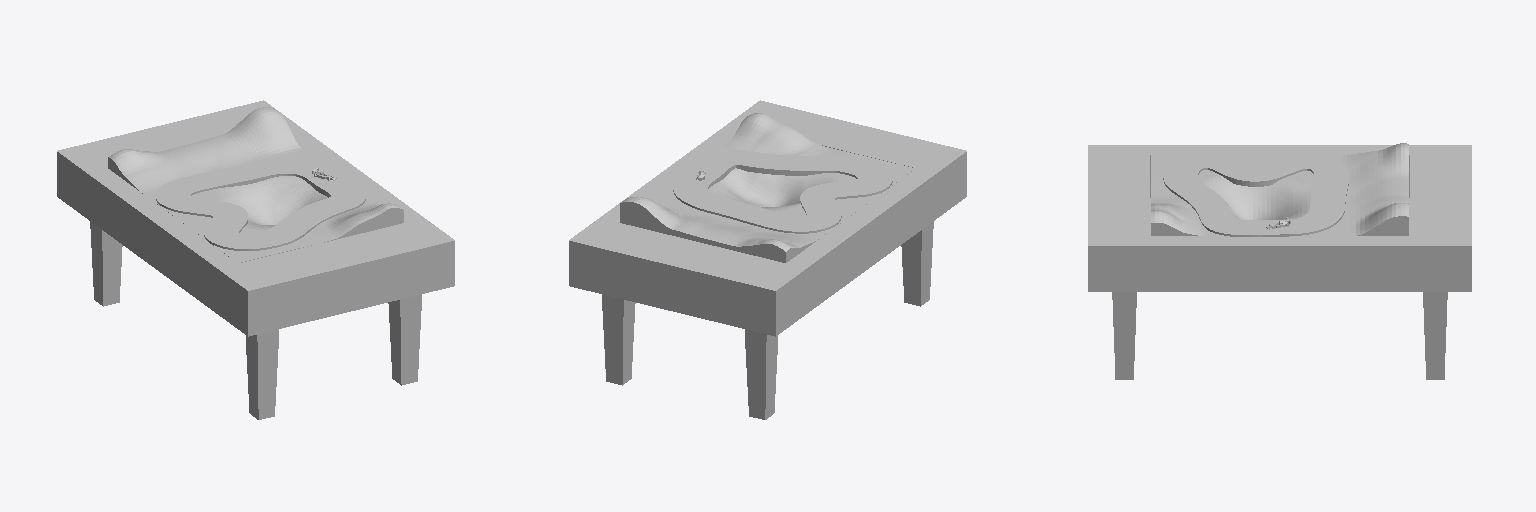
The model's file is NewestTisch22.obj.
3 views of the same model, side by side, from view 1: azimuth 30°, elevation 25°; view 2: azimuth 150°, elevation 25°; view 3: azimuth 270°, elevation 25° (orthographic).
Visible parts, largest first — view 1: Tischplatte_wood_table_001, Landschaft_aerial_grass_rock, off, Bein1_wood_table_001, Bein4_wood_table_001.003, Bein3_wood_table_001.002; view 2: Tischplatte_wood_table_001, Landschaft_aerial_grass_rock, off, Bein2_wood_table_001.001, Bein3_wood_table_001.002, Bein4_wood_table_001.003; view 3: Tischplatte_wood_table_001, Landschaft_aerial_grass_rock, off, Bein1_wood_table_001, Bein2_wood_table_001.001.
Part boxes in pixels (bbox=[...]): Tischplatte_wood_table_001: bbox=[57, 100, 454, 336]; Landschaft_aerial_grass_rock: bbox=[108, 107, 403, 262]; off: bbox=[156, 159, 365, 250]; Bein1_wood_table_001: bbox=[388, 294, 421, 385]; Bein4_wood_table_001.003: bbox=[246, 329, 278, 419]; Bein3_wood_table_001.002: bbox=[90, 221, 122, 306]; Tischplatte_wood_table_001: bbox=[569, 100, 966, 336]; Landschaft_aerial_grass_rock: bbox=[620, 113, 915, 262]; off: bbox=[673, 150, 892, 233]; Bein2_wood_table_001.001: bbox=[602, 294, 635, 385]; Bein3_wood_table_001.002: bbox=[745, 329, 777, 419]; Bein4_wood_table_001.003: bbox=[901, 221, 933, 306]; Tischplatte_wood_table_001: bbox=[1088, 145, 1471, 291]; Landschaft_aerial_grass_rock: bbox=[1151, 143, 1408, 235]; off: bbox=[1163, 153, 1348, 236]; Bein1_wood_table_001: bbox=[1112, 292, 1136, 379]; Bein2_wood_table_001.001: bbox=[1423, 292, 1447, 379].
Size of the model in its own units: 5 by 3.91 by 8.